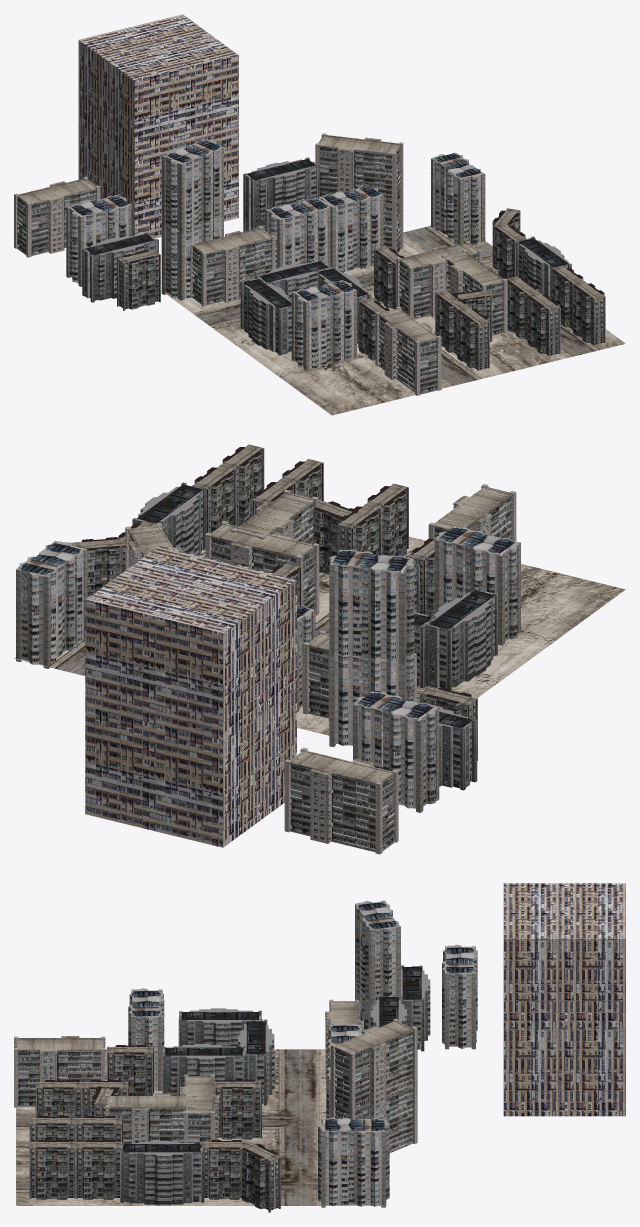
Rendered from street_city_buildings_8.glb.
3 views of the same model, one above another, from view 1: azimuth 30°, elevation 25°; view 2: azimuth 150°, elevation 25°; view 3: azimuth 270°, elevation 25° (orthographic). The views are drawn at different scales.
Parts seen in each view (by area): view 1: Plane.015, Plane.002, Plane.008, Plane.014, Cube.001, Cube.019, Cube.002, Plane.012, Cube.004, Plane.004, Plane.003, Plane.011 (+21 smaller); view 2: Plane.015, Cube.004, Plane.002, Plane.014, Plane.012, Plane, Plane.008, Plane.007, Plane.013, Cube.011, Plane.006, Cube.002 (+16 smaller); view 3: Plane.015, Plane.002, Plane.012, Cube.019, Plane.006, Cube.002, Plane.014, Plane, Cube.012, Plane.005, Cube.010, Cube.003 (+18 smaller).
Boxes of the visible parts, left/top/right/bottom form: Plane.015: left=78, top=14, right=238, bottom=238; Plane.002: left=165, top=225, right=625, bottom=415; Plane.008: left=291, top=280, right=356, bottom=370; Plane.014: left=161, top=139, right=223, bottom=234; Cube.001: left=190, top=226, right=275, bottom=306; Cube.019: left=315, top=133, right=403, bottom=207; Cube.002: left=375, top=306, right=441, bottom=395; Plane.012: left=431, top=152, right=485, bottom=245; Cube.004: left=14, top=176, right=100, bottom=257; Plane.004: left=318, top=186, right=383, bottom=272; Plane.003: left=265, top=197, right=330, bottom=268; Plane.011: left=243, top=157, right=319, bottom=227; Plane.015: left=85, top=545, right=296, bottom=847; Cube.004: left=284, top=747, right=398, bottom=854; Plane.002: left=14, top=536, right=625, bottom=735; Plane.014: left=329, top=549, right=414, bottom=664; Plane.012: left=16, top=541, right=87, bottom=668; Plane: left=353, top=691, right=439, bottom=812; Plane.008: left=434, top=526, right=520, bottom=645; Plane.007: left=424, top=588, right=497, bottom=690; Plane.013: left=329, top=649, right=414, bottom=746; Cube.011: left=205, top=521, right=319, bottom=615; Plane.006: left=132, top=482, right=205, bottom=555; Cube.002: left=428, top=484, right=516, bottom=541; Plane.015: left=503, top=883, right=625, bottom=1116; Plane.002: left=16, top=1049, right=386, bottom=1205; Plane.012: left=318, top=1117, right=389, bottom=1207; Cube.019: left=330, top=1018, right=417, bottom=1112; Plane.006: left=120, top=1140, right=204, bottom=1205; Cube.002: left=14, top=1036, right=105, bottom=1107; Plane.014: left=355, top=900, right=400, bottom=1005; Plane: left=442, top=944, right=477, bottom=1049; Cube.012: left=105, top=1093, right=196, bottom=1143; Plane.005: left=162, top=1044, right=246, bottom=1095; Cube.010: left=29, top=1140, right=76, bottom=1199; Cube.003: left=214, top=1079, right=261, bottom=1139.
Bounding box in the file's own units: 18.08 × 7.78 × 23.71.
9 materials, 9 textured.
